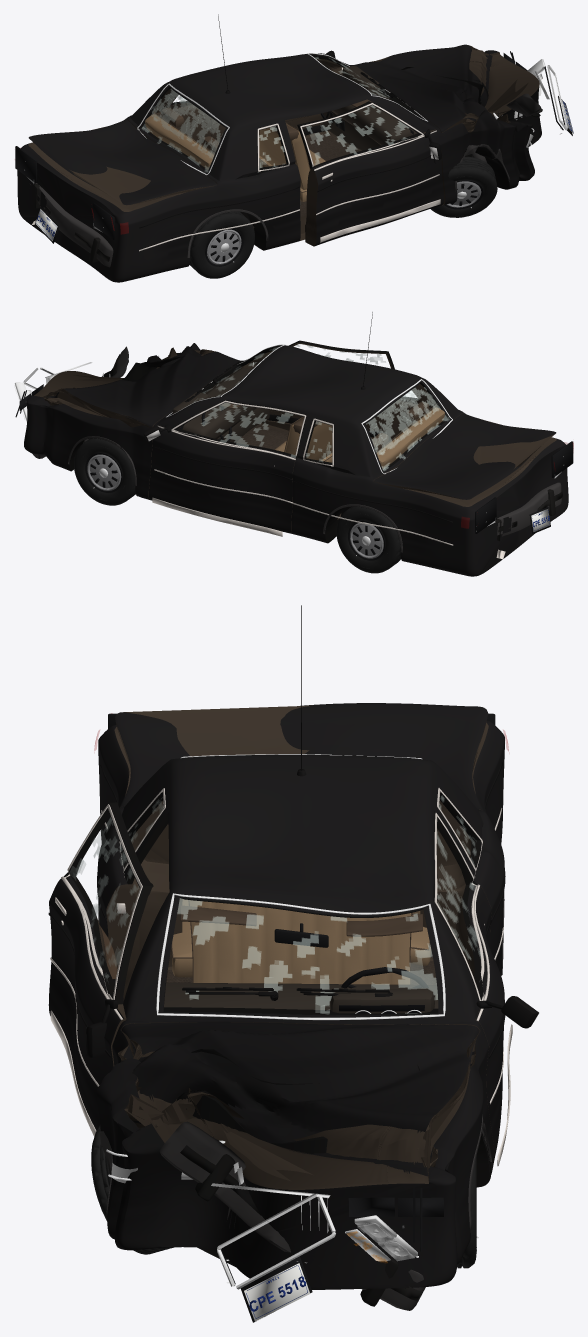
Rendered from coupe84_front_corner_R_d2_lod1.glb.
3 views of the same model, one above another, from view 1: azimuth 30°, elevation 25°; view 2: azimuth 150°, elevation 25°; view 3: azimuth 270°, elevation 25° (orthographic). The views are drawn at different scales.
Visible parts, largest first — view 1: Body, Door_FR, Trunk, Hood, Interior, Wheel_RR_mesh, Glass, Ends, Wheel_FR_mesh, Trim_FR, Bumper_R, Trim (+3 smaller); view 2: Body, Door_FL, Trunk, Hood, Interior, Wheel_RL_mesh, Glass, Wheel_FL_mesh, Trim_FL, Ends, Trim, Bumper_R (+3 smaller); view 3: Body, Hood, Interior, Trunk, Door_FR, Ends, Glass, Bumper_F, Door_FL, Trim_FR, Trim, Trim_FL (+3 smaller).
Part boxes in pixels (box(x1,y1,x2,y2)): Body: box(17, 50, 541, 282); Door_FR: box(297, 101, 443, 246); Trunk: box(28, 119, 217, 205); Hood: box(352, 44, 492, 132); Interior: box(145, 66, 417, 201); Wheel_RR_mesh: box(189, 211, 254, 278); Glass: box(137, 53, 427, 175); Ends: box(15, 51, 573, 243); Wheel_FR_mesh: box(431, 156, 497, 217); Trim_FR: box(300, 103, 442, 242); Bumper_R: box(29, 182, 113, 267); Trim: box(139, 14, 510, 257); Body: box(24, 343, 568, 576); Door_FL: box(149, 400, 306, 533); Trunk: box(374, 413, 556, 499); Hood: box(42, 346, 240, 427); Interior: box(172, 368, 444, 468); Wheel_RL_mesh: box(336, 506, 400, 573); Glass: box(166, 344, 452, 474); Wheel_FL_mesh: box(74, 438, 135, 505); Trim_FL: box(143, 400, 306, 536); Ends: box(15, 355, 573, 534); Trim: box(68, 312, 453, 552); Bumper_R: box(487, 482, 562, 541); Body: box(96, 720, 504, 1289); Hood: box(121, 1022, 479, 1176); Interior: box(164, 899, 438, 1013); Trunk: box(115, 703, 488, 810); Door_FR: box(48, 802, 153, 1130); Ends: box(106, 713, 495, 1322); Glass: box(124, 754, 479, 1020); Bumper_F: box(159, 1121, 425, 1310); Door_FL: box(433, 811, 504, 1159); Trim_FR: box(48, 804, 142, 1136); Trim: box(97, 605, 505, 1232); Trim_FL: box(434, 813, 538, 1166).
Bounding box in the file's own units: 5.3 × 2.19 × 2.18.
34 materials, 5 textured.
